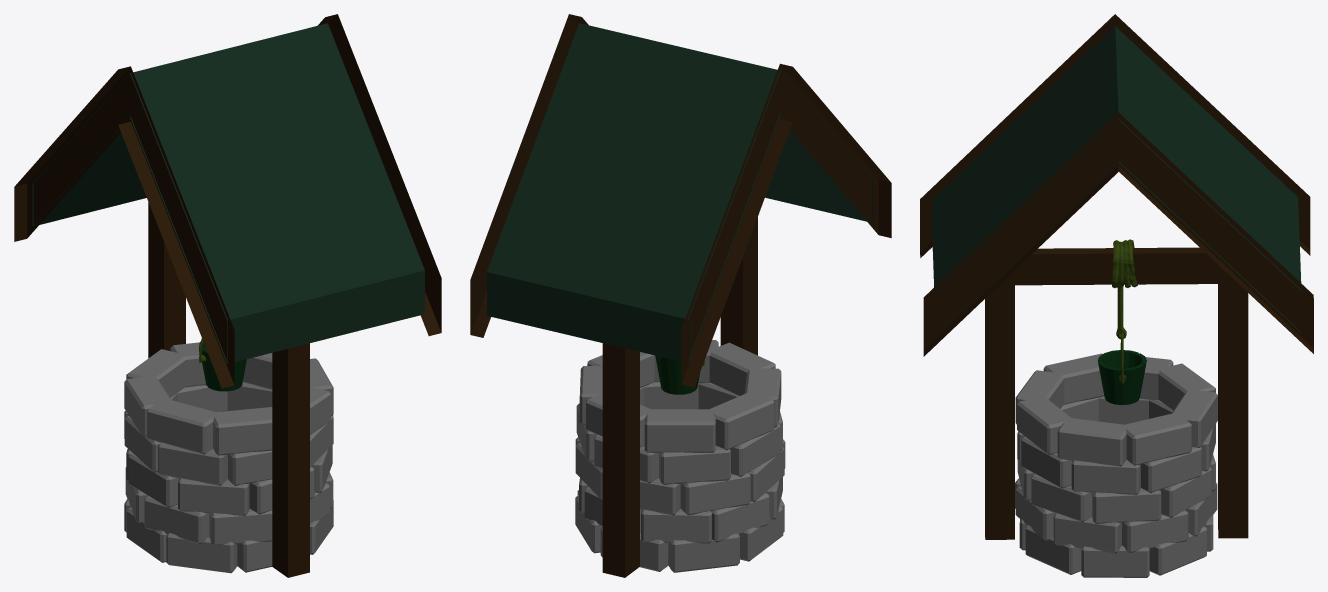
File: Poco.gltf
The picture shows the model from 3 angles, left to right: view 1: azimuth 30°, elevation 25°; view 2: azimuth 150°, elevation 25°; view 3: azimuth 270°, elevation 25°; orthographic projection. The views are drawn at different scales.
Visible parts, largest first — view 1: Poço_Verde; view 2: Poço_Verde; view 3: Poço_Verde.
Part boxes in pixels (<box>): Poço_Verde: <box>14,14,441,577</box>; Poço_Verde: <box>470,14,891,577</box>; Poço_Verde: <box>920,14,1313,577</box>.
Bounding box in the file's own units: 0.3164 × 0.6509 × 0.4927.
